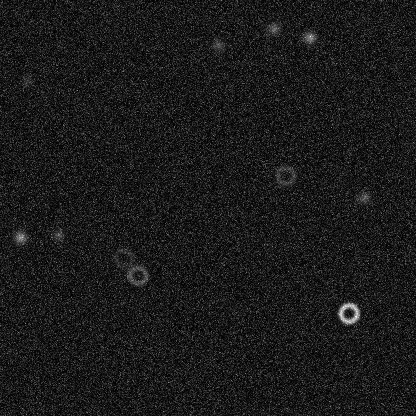Ring: (273, 163, 297, 187), (125, 263, 149, 287), (111, 246, 135, 270), (336, 301, 360, 325)
Spot: (356, 190, 372, 206), (19, 73, 35, 89), (12, 229, 28, 245), (210, 37, 226, 53), (50, 227, 66, 243), (301, 29, 317, 45), (265, 20, 281, 36)
